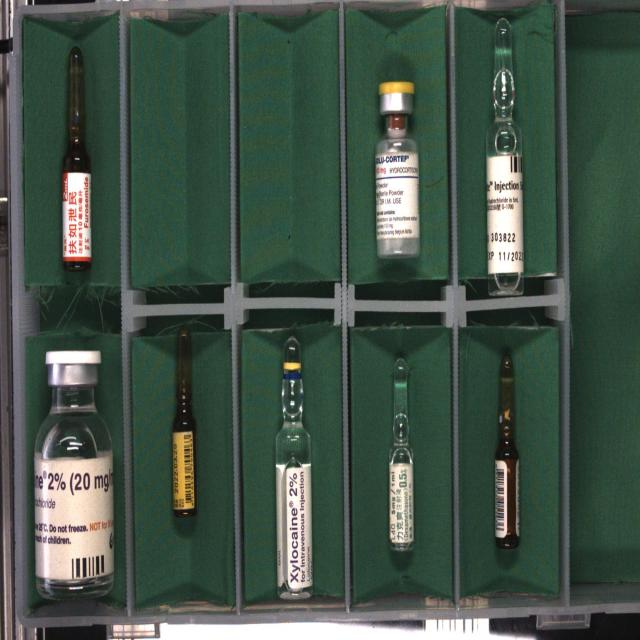Vials: (34, 350, 114, 599), (375, 82, 419, 258)
